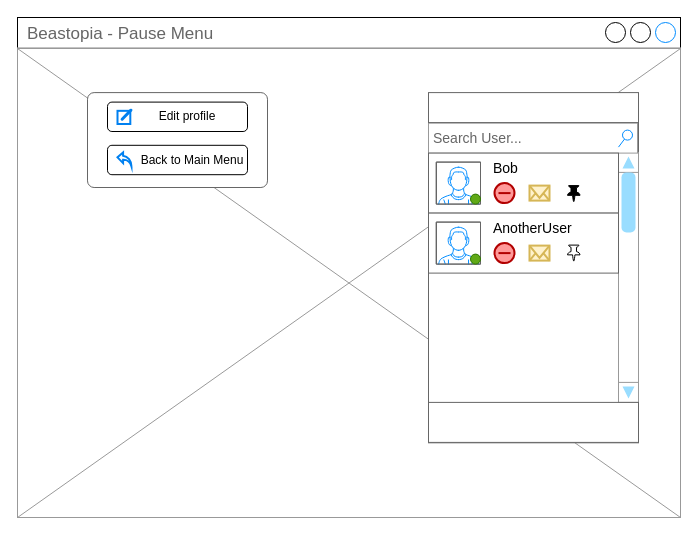
The diagram is 698 pixels wide and 535 high, and some of its shapes have lost their labels. Each missing label, with the centre of its shape:
"Friend List" goes at pixel 533 107.
"Show Chats" goes at pixel 533 421.
